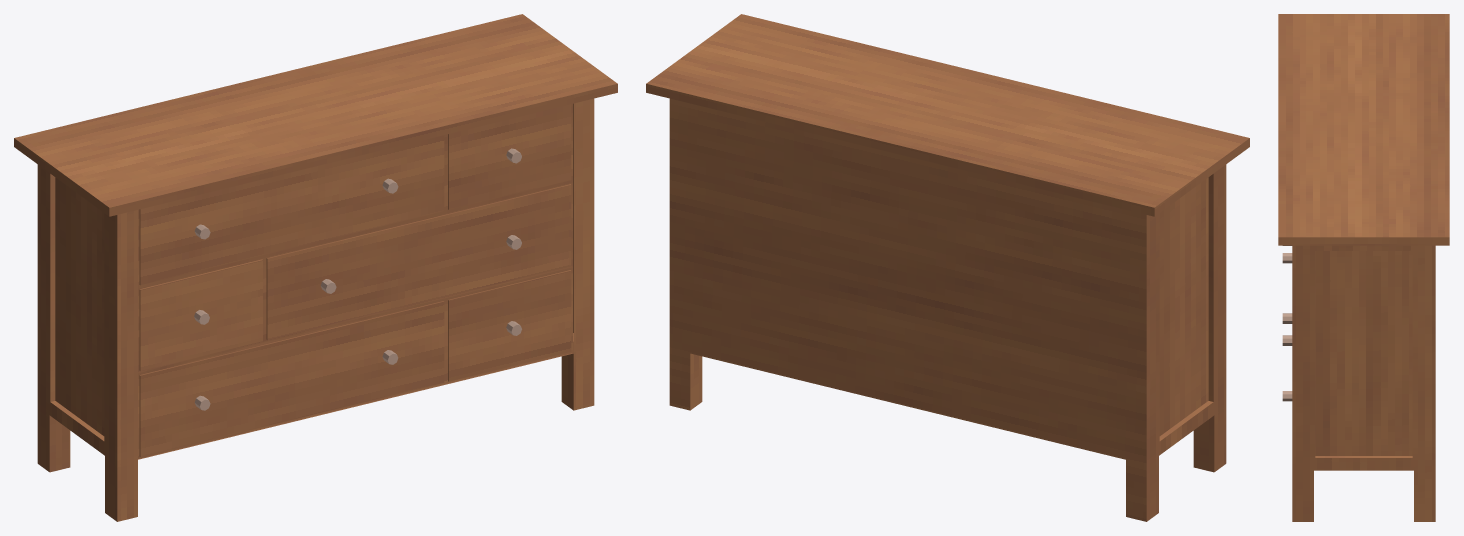
The model's file is dresser.glb.
The picture shows the model from 3 angles, left to right: view 1: azimuth 30°, elevation 25°; view 2: azimuth 150°, elevation 25°; view 3: azimuth 270°, elevation 25°; orthographic projection. The views are drawn at different scales.
Visible parts, largest first — view 1: Dresser, Dresser.001; view 2: Dresser; view 3: Dresser, Dresser.001.
Boxes of the visible parts, box(x1,y1,x2,y2) form: Dresser: box(14, 14, 617, 521); Dresser.001: box(194, 148, 521, 410); Dresser: box(646, 14, 1249, 521); Dresser: box(1278, 14, 1449, 521); Dresser.001: box(1282, 245, 1292, 401).
Bounding box in the file's own units: 1.03 × 0.6256 × 0.3338.
2 materials, 2 textured.
